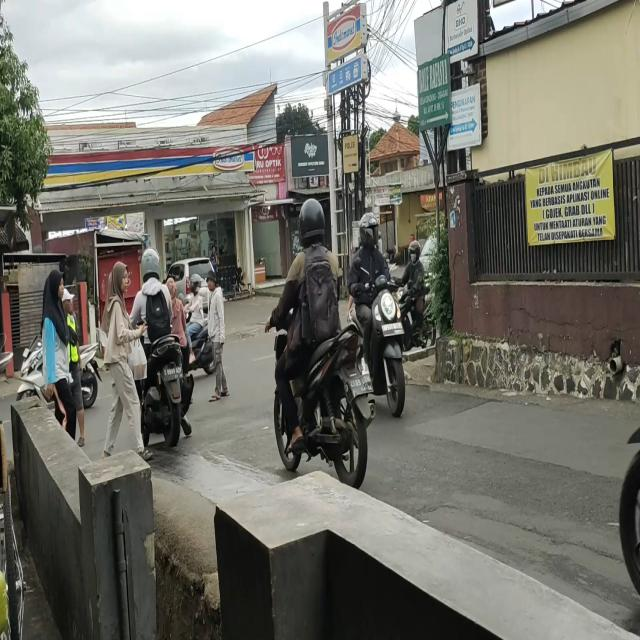helmet: (300, 201, 325, 245), (141, 248, 161, 286), (362, 213, 381, 246), (408, 240, 423, 264), (189, 272, 201, 294)
no-helmet: (167, 278, 177, 298)
